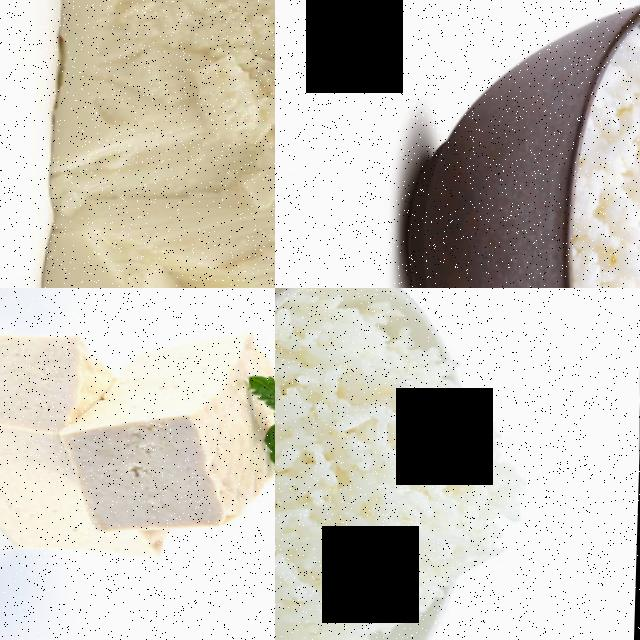tofu: (27, 0, 275, 288), (61, 395, 271, 538), (0, 325, 110, 446)
white rice: (275, 288, 537, 640), (570, 25, 640, 288)
